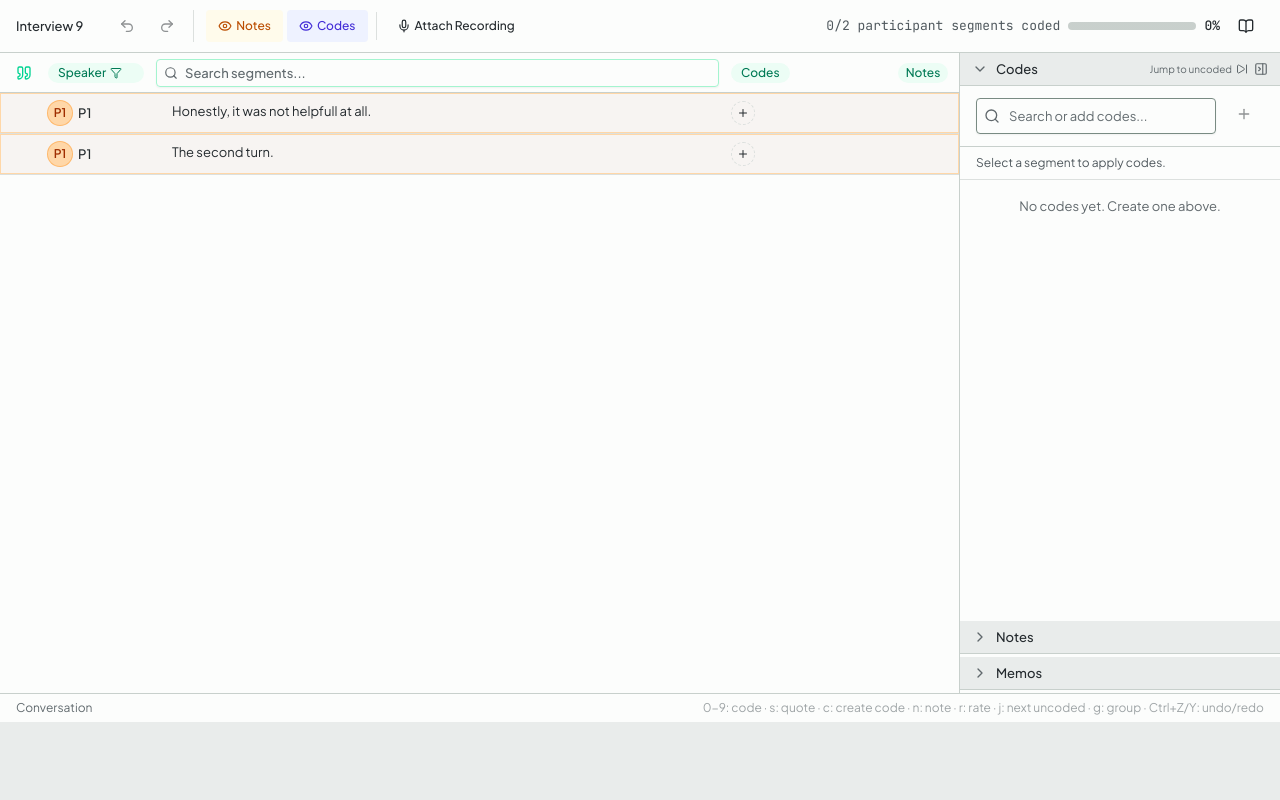
#1319 — a text edit on the conversation workbench › names the quote it would change, and Cancel goes back to the editor with the typed text
Double-click the text "Honestly, it was not helpfull at all.".
double_click(272, 111)  # box left=172, top=103, right=371, bottom=119
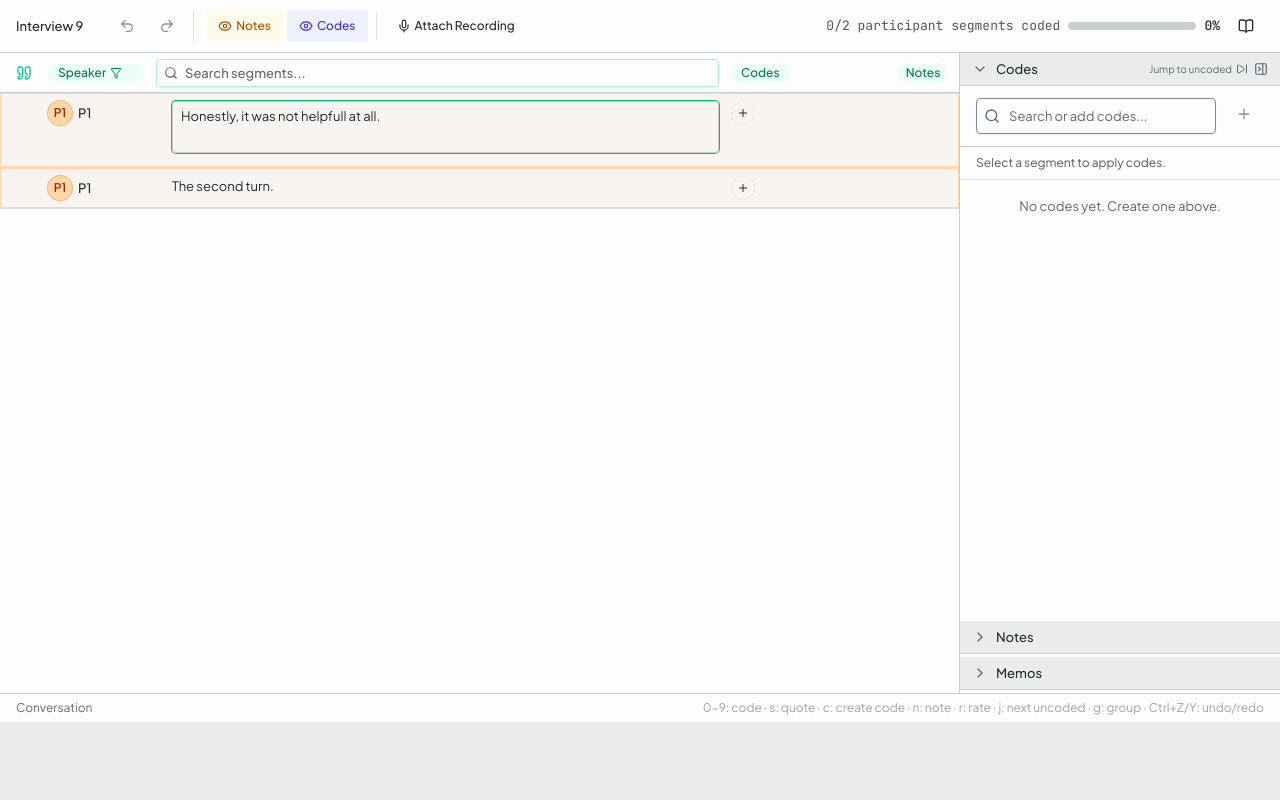
Replace the text in the text box named "Edit segment text" with "Honestly, it was not helpful at all." at (446, 127), box left=172, top=101, right=719, bottom=153
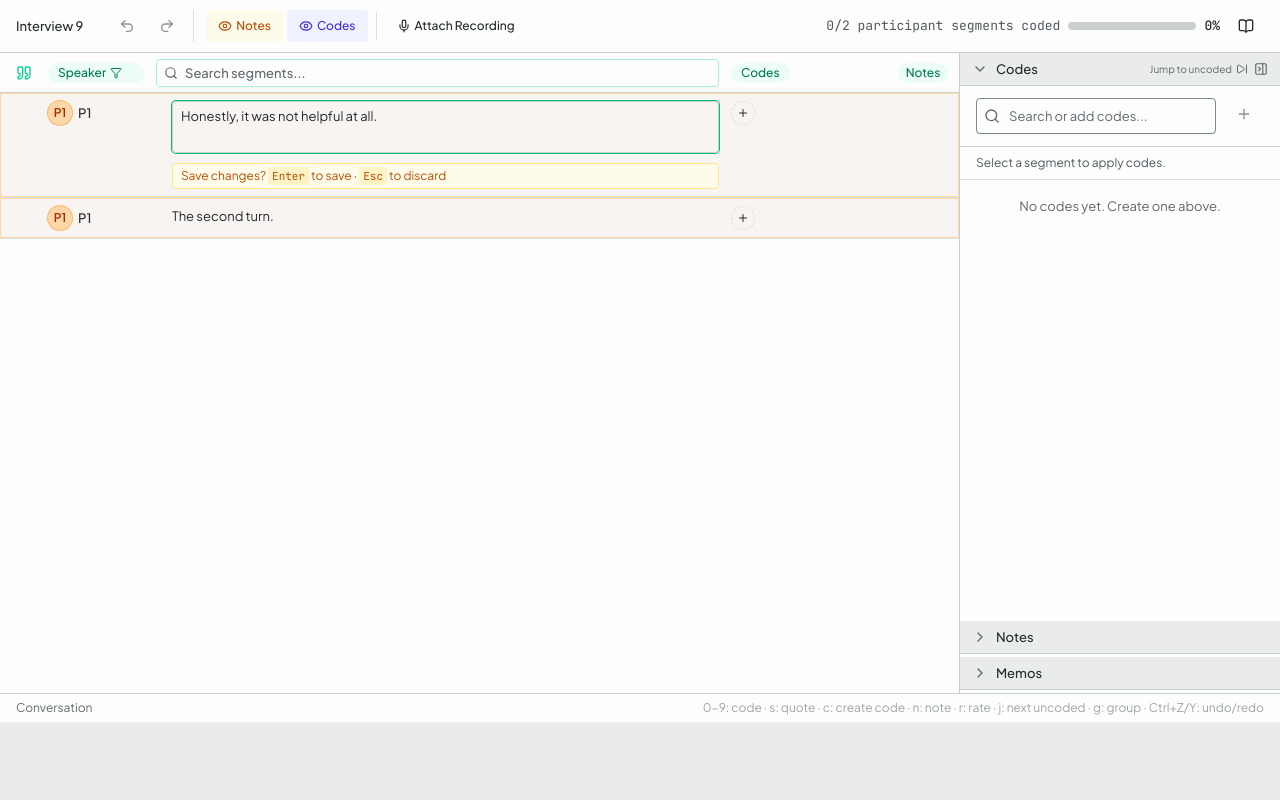
Press Enter in the text box named "Edit segment text", box left=172, top=101, right=719, bottom=153
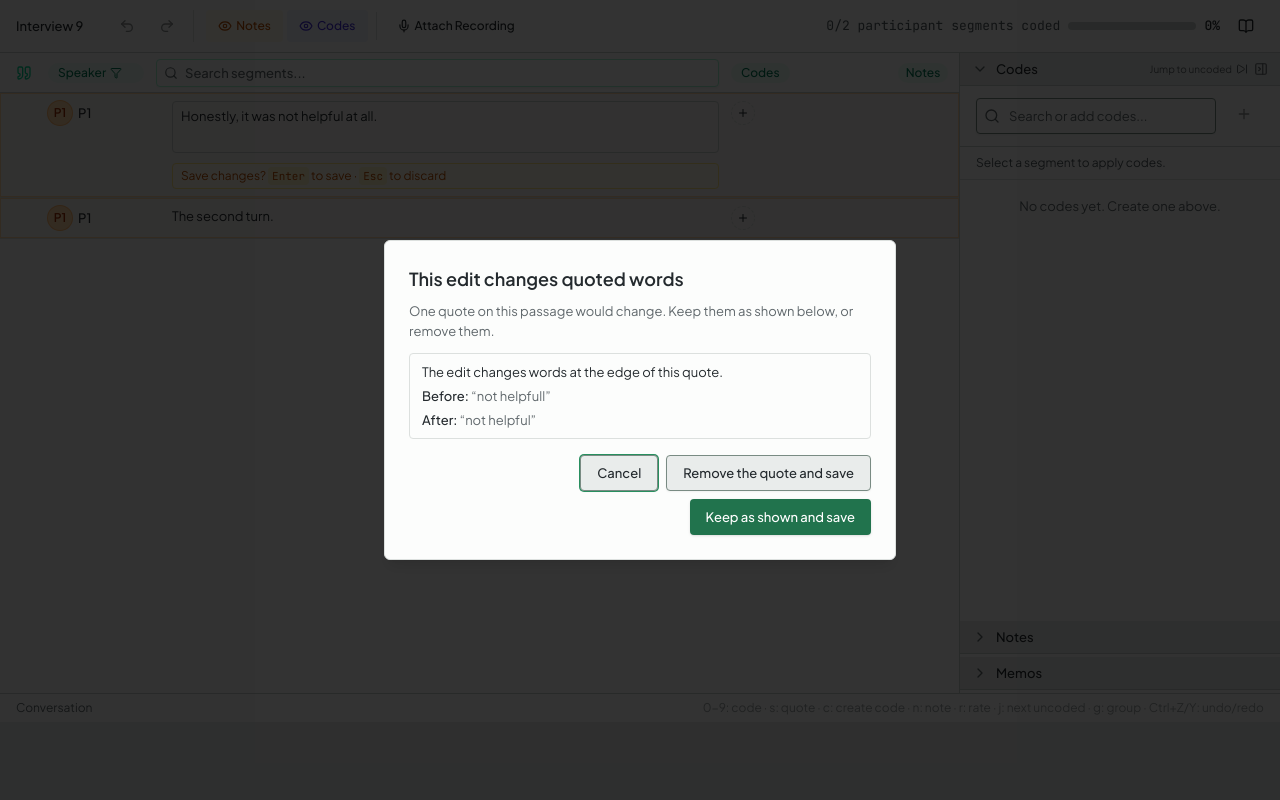
Click the button "Cancel".
click(619, 473)  # box left=580, top=455, right=658, bottom=491
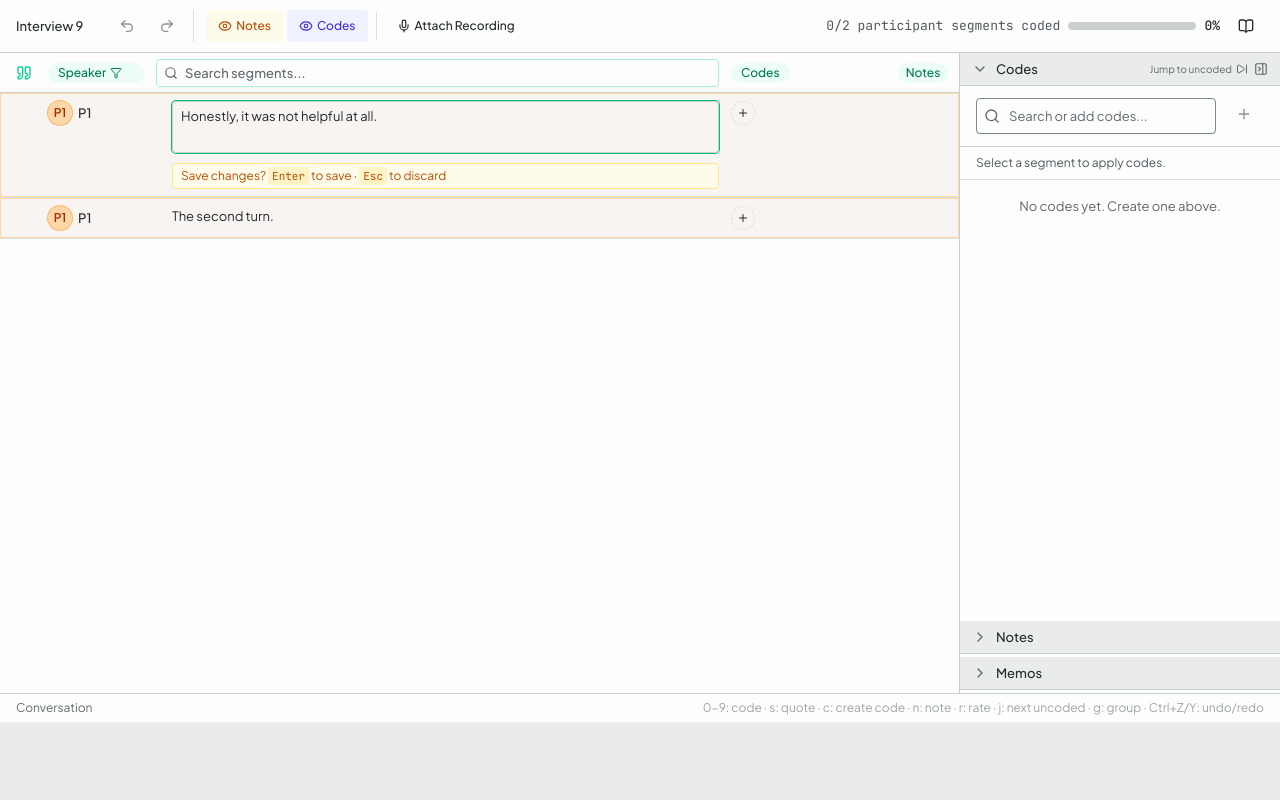
Expected: the dialog is gone
